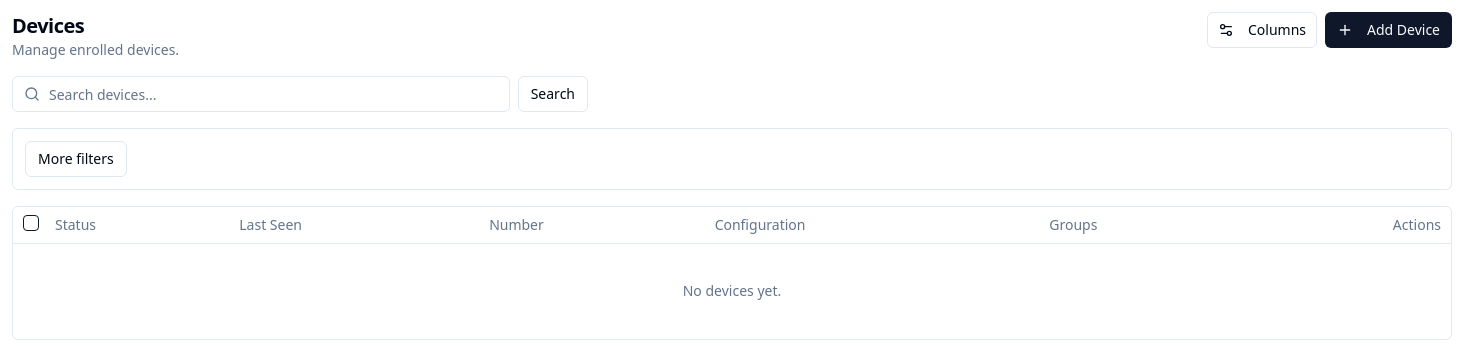
DevicesPage › shows no search results message when search returns empty
Type "xyz" into the field labelled "Search devices..." at {"x": 261, "y": 94}, box top-left (12, 76), bottom-right (510, 112)
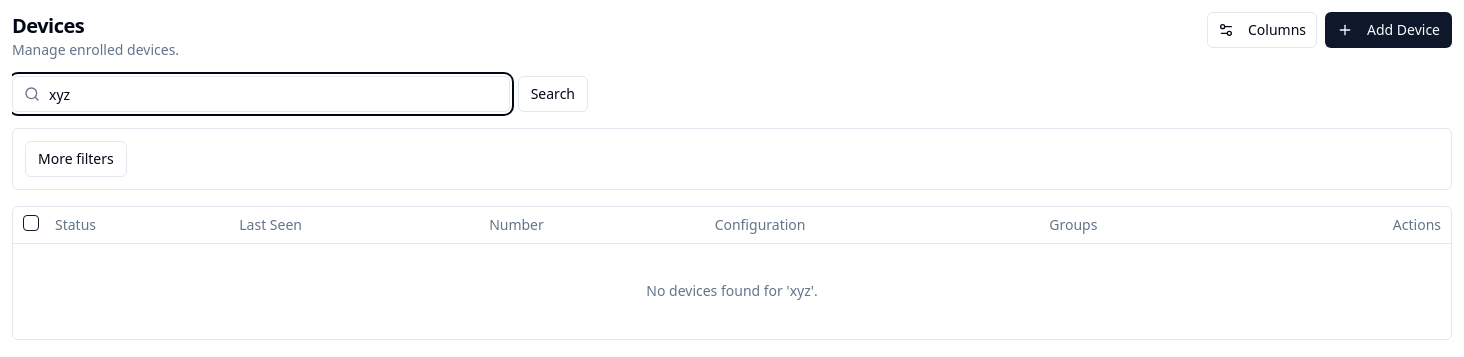
Expected: the text "No devices found for 'xyz'." is shown, top-left (13, 243), bottom-right (1451, 339)
